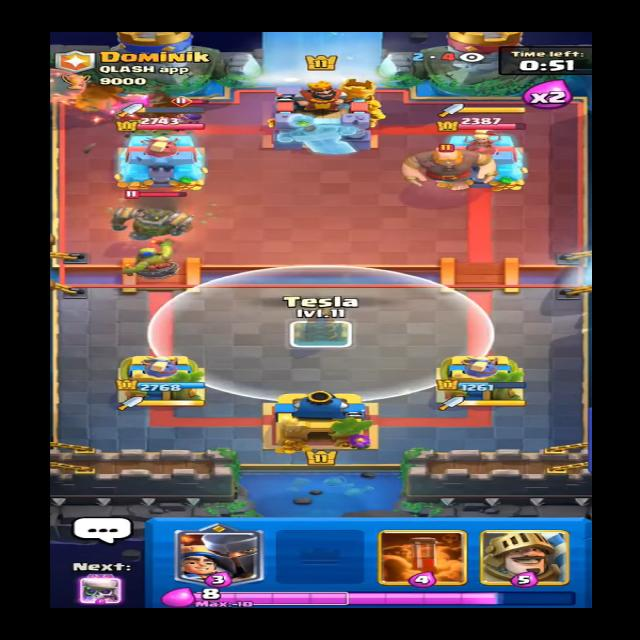evo-bomber: (168, 98, 208, 132)
giant: (395, 137, 499, 190)
goblin-machine: (108, 186, 204, 245)
